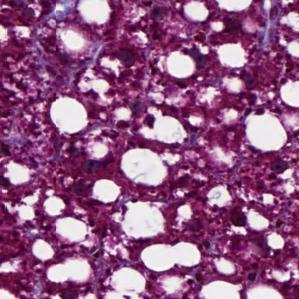steatosis: (248, 110, 287, 151), (124, 145, 166, 182), (50, 96, 91, 133), (51, 216, 90, 248), (164, 53, 197, 81), (90, 178, 119, 204)
